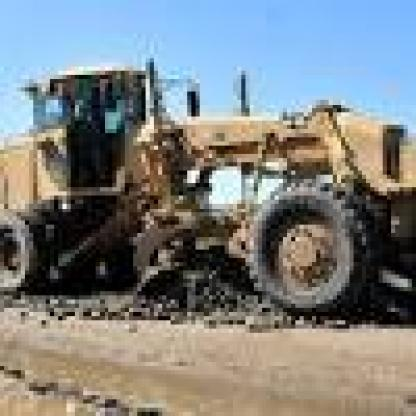bull_dozer/loader/grader: (8, 46, 412, 349)
